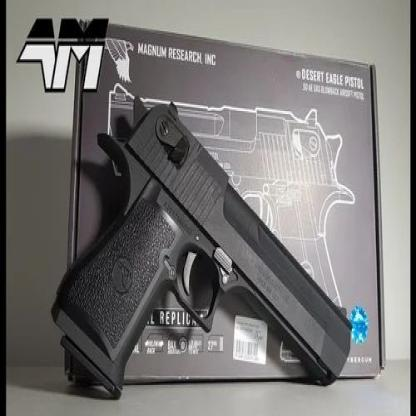handgun: (49, 94, 363, 408)
